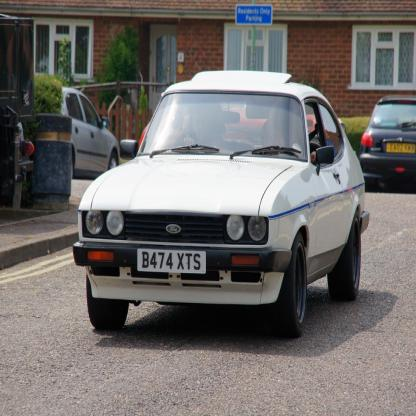Car: (74, 71, 371, 340), (61, 87, 120, 182), (360, 95, 416, 195)
